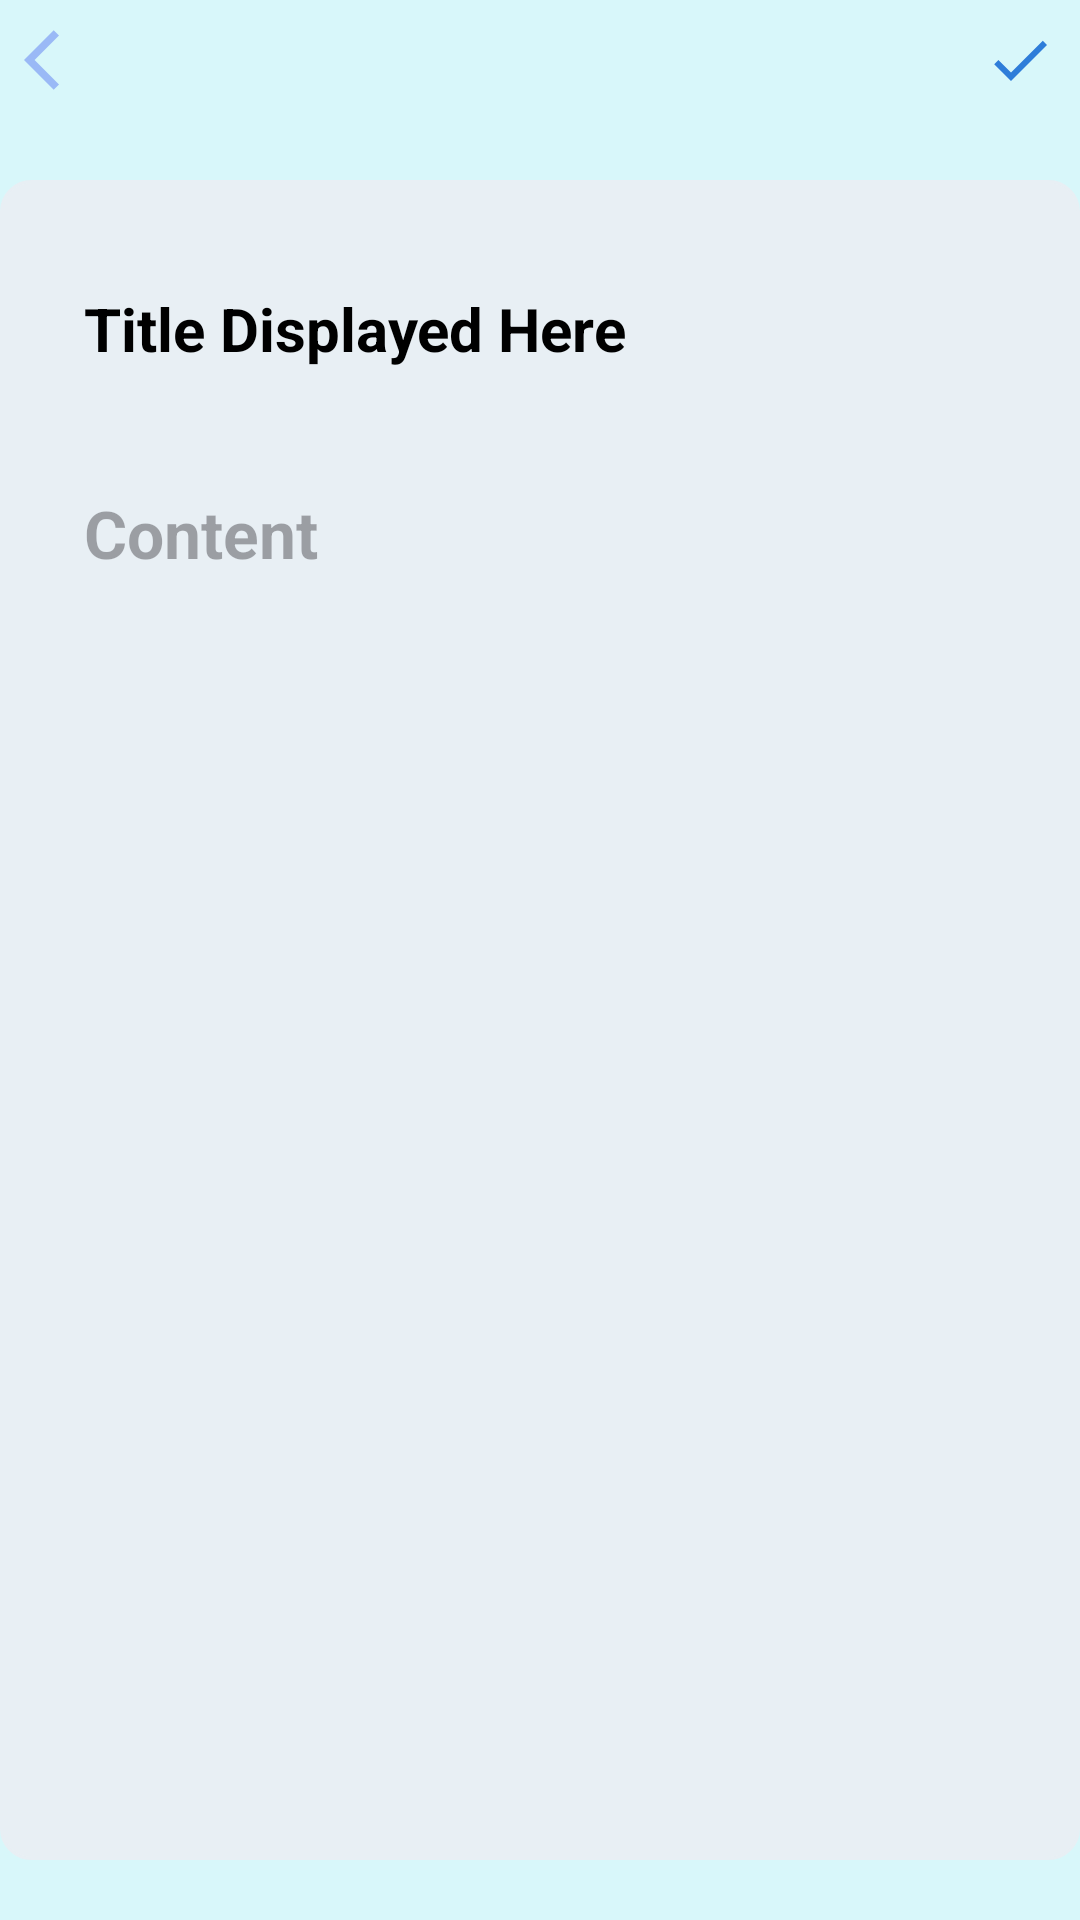

Screen size 1080px x 1920px. Icon name, then its center in pixels as (x=x, y=y):
back: (x=41, y=60)
done: (x=1020, y=61)
